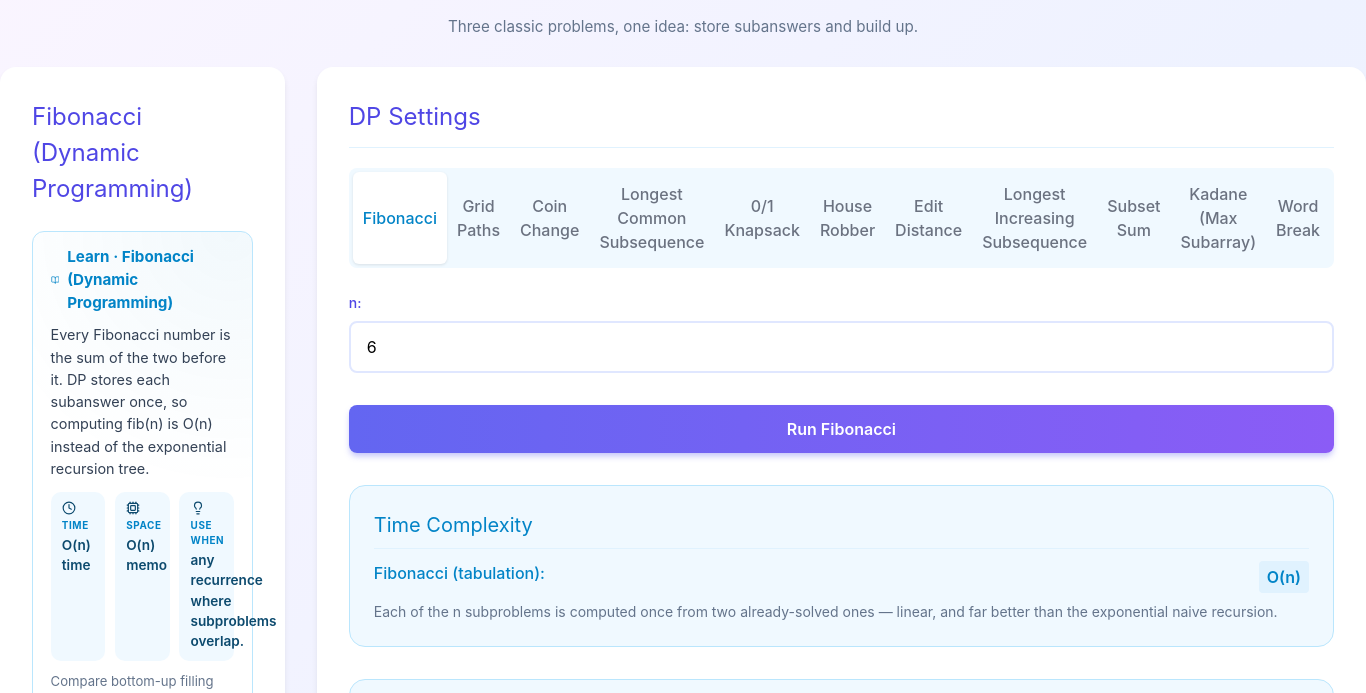
Test: DynamicProgramming › running fibonacci fills the memo chips and records the run
This screenshot has width=1366, height=693.
Replace the text in the number field with placeholder "n" with "5": (841, 347) [349, 321, 1334, 373]
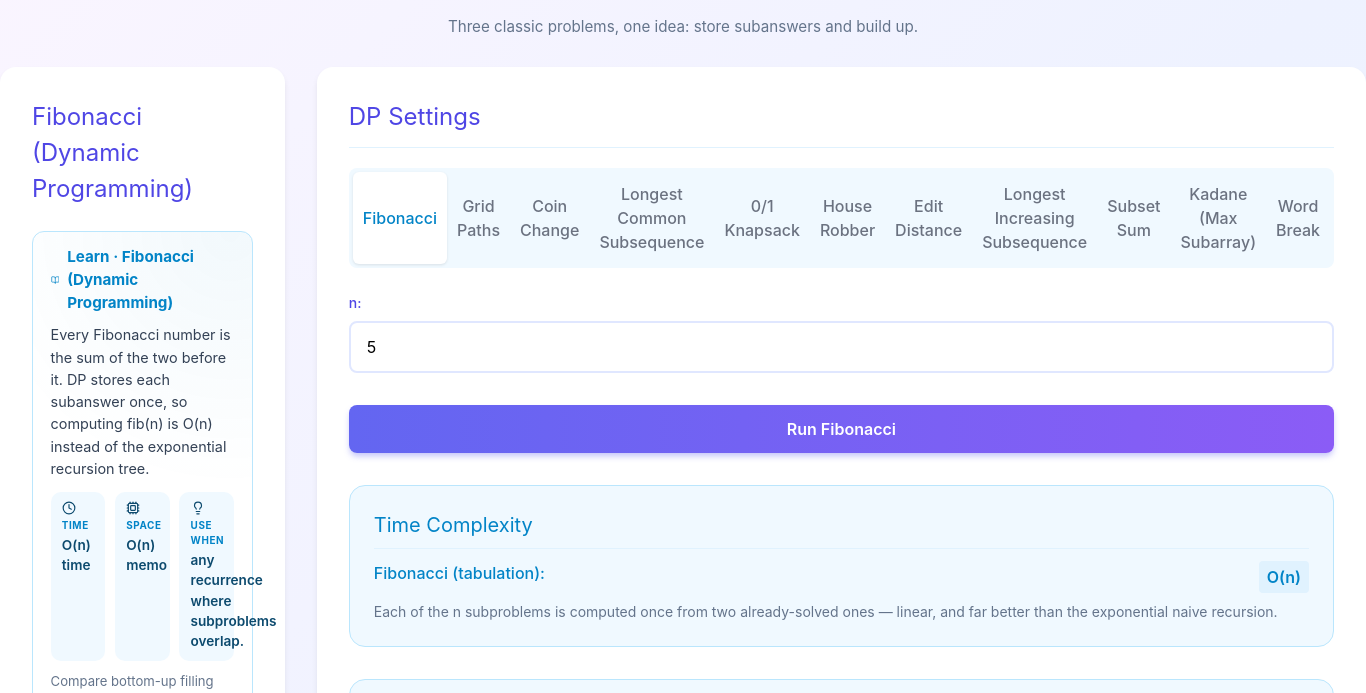
Click the button "Run Fibonacci": (841, 429) [349, 405, 1334, 453]
Wait 60000 ms
(page scrolled)
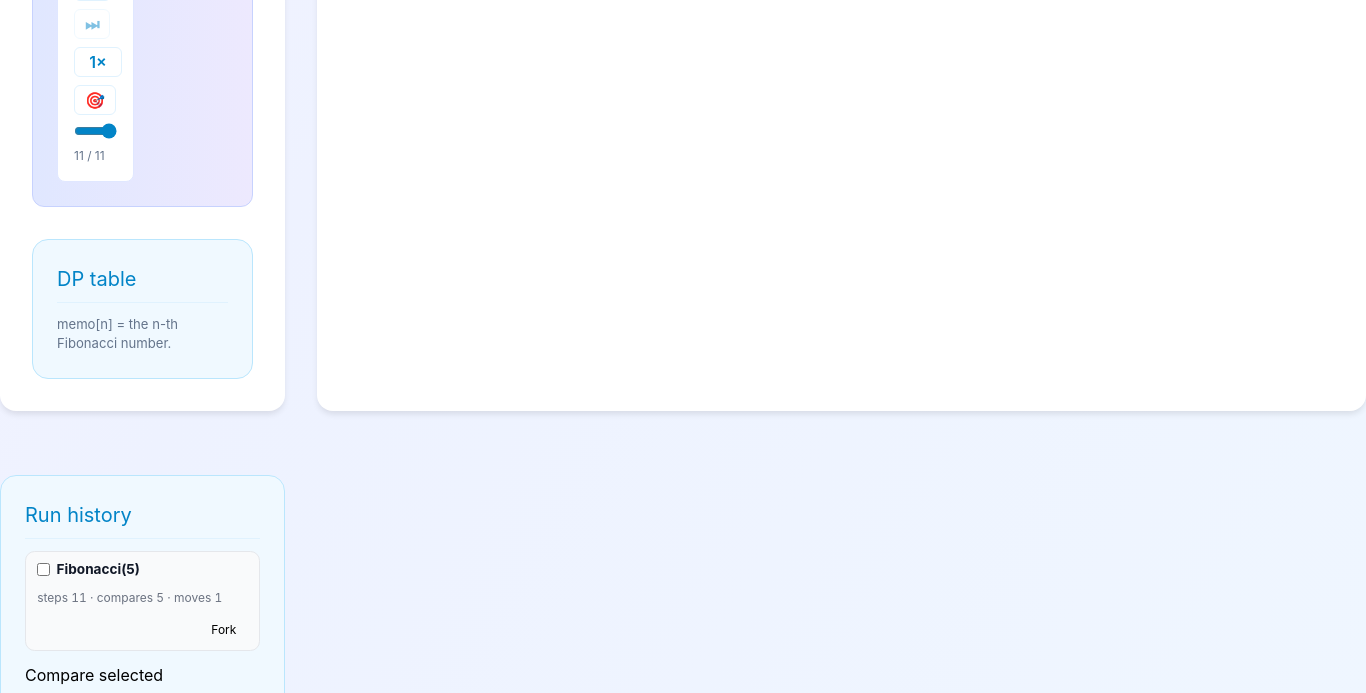
Check: the text "Fibonacci(5)" is shown, box [57, 559, 140, 580]
